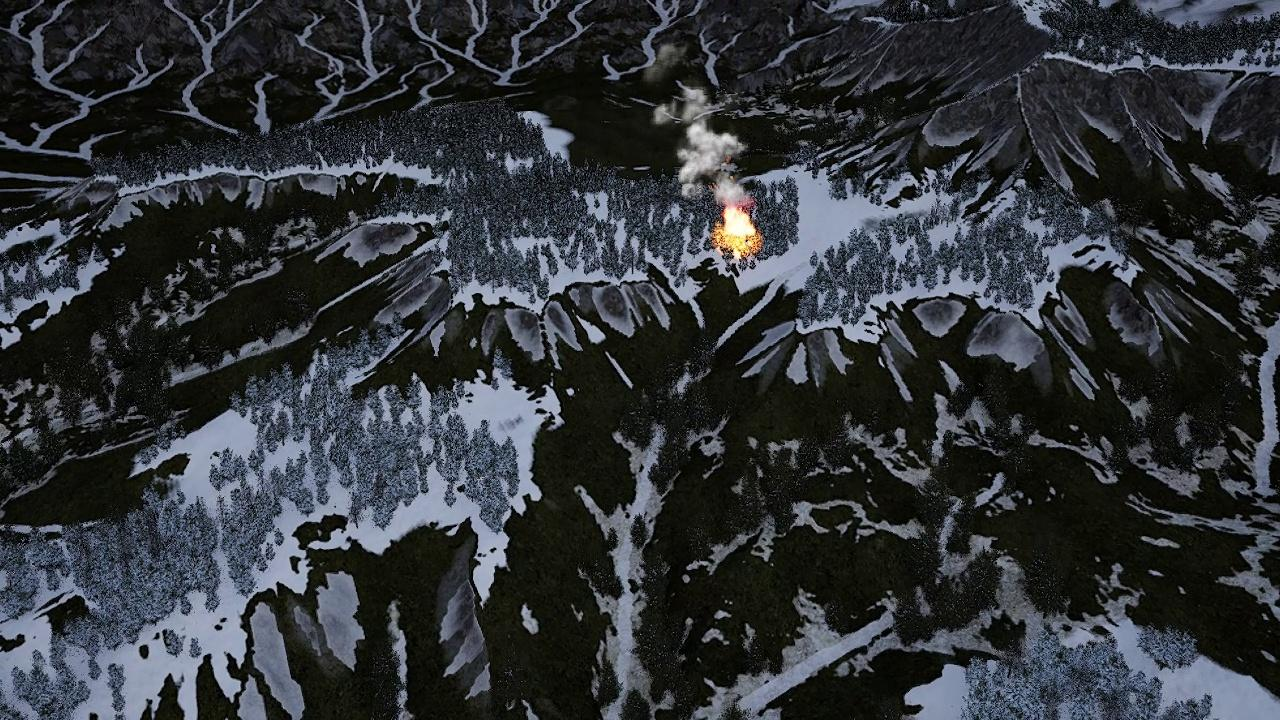fire: (716, 205, 758, 253)
smoke: (652, 86, 752, 206)
